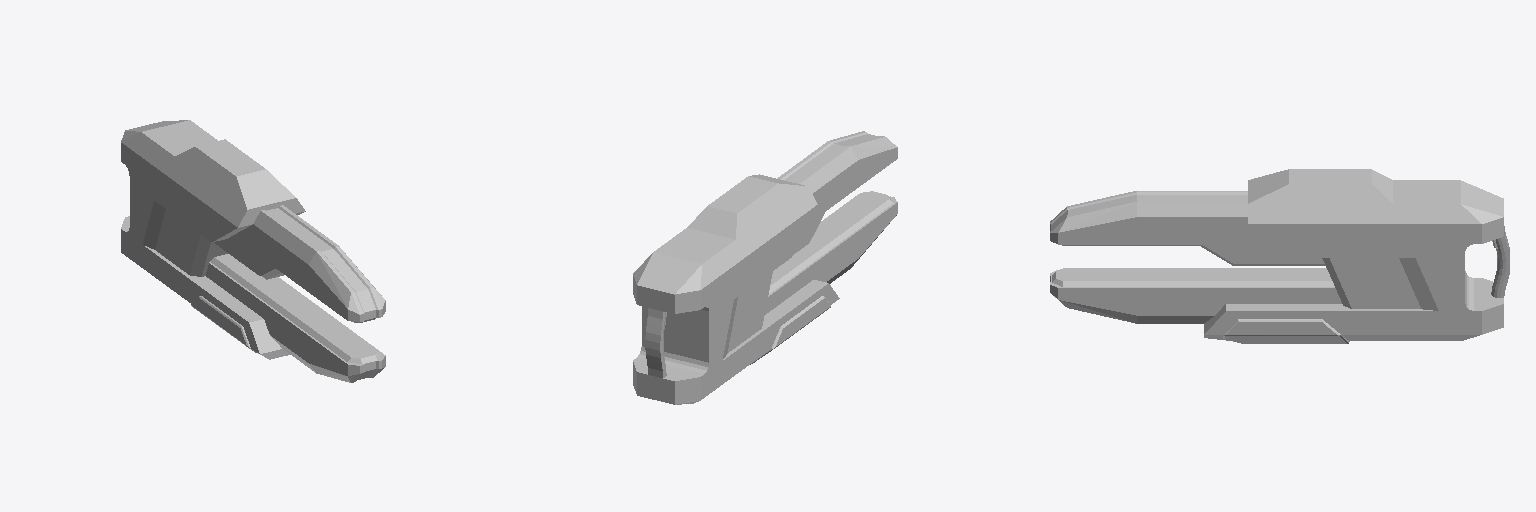
3 renders of one model, left to right at view 1: azimuth 30°, elevation 25°; view 2: azimuth 150°, elevation 25°; view 3: azimuth 270°, elevation 25°, orthographic.
Visible parts, largest first — view 1: lowpoly_Cube.002; view 2: lowpoly_Cube.002; view 3: lowpoly_Cube.002.
Part boxes in pixels (x1,y1,x2,y2): lowpoly_Cube.002: (121,120,385,382); lowpoly_Cube.002: (633,131,897,404); lowpoly_Cube.002: (1050,169,1509,343).
Size of the model in its own units: 0.96 by 2.02 by 5.29.